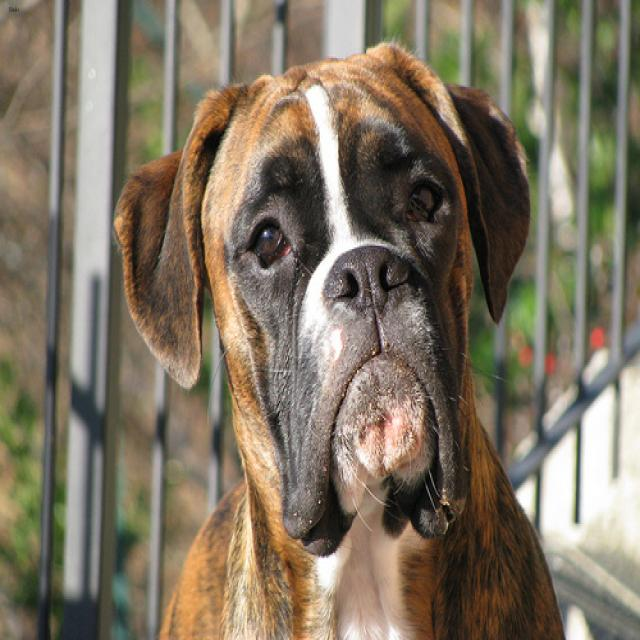dog-boxer: (100, 31, 579, 637)
